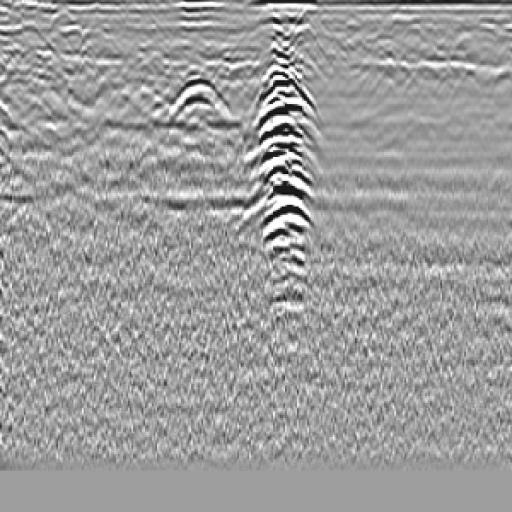metalic: (251, 17, 320, 309)
nonmetalic: (160, 75, 241, 142)
